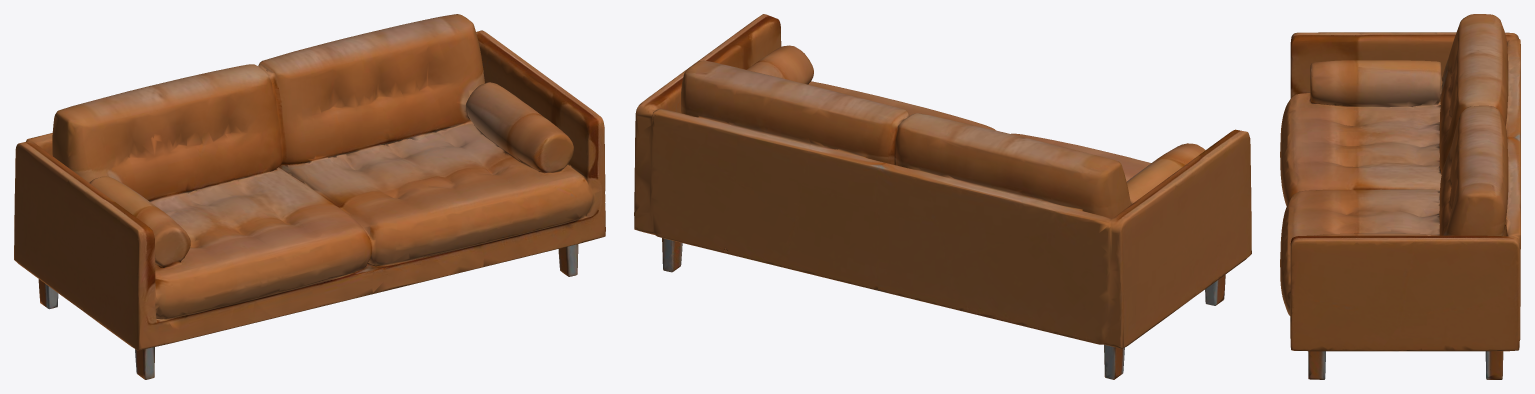
The model's file is sofa.glb.
3 views of the same model, side by side, from view 1: azimuth 30°, elevation 25°; view 2: azimuth 150°, elevation 25°; view 3: azimuth 270°, elevation 25° (orthographic). The views are drawn at different scales.
Parts seen in each view (by area): view 1: tripo_node_d4f37d1a-cbc0-4199-b503-1681eae6d32c; view 2: tripo_node_d4f37d1a-cbc0-4199-b503-1681eae6d32c; view 3: tripo_node_d4f37d1a-cbc0-4199-b503-1681eae6d32c.
Part boxes in pixels (x1,y1,x2,y2): tripo_node_d4f37d1a-cbc0-4199-b503-1681eae6d32c: [14, 14, 605, 379]; tripo_node_d4f37d1a-cbc0-4199-b503-1681eae6d32c: [634, 14, 1251, 379]; tripo_node_d4f37d1a-cbc0-4199-b503-1681eae6d32c: [1280, 14, 1520, 379].
Size of the model in its own units: 2.2 by 0.8801 by 1.06.
Materials: 1 (1 with a texture image).
